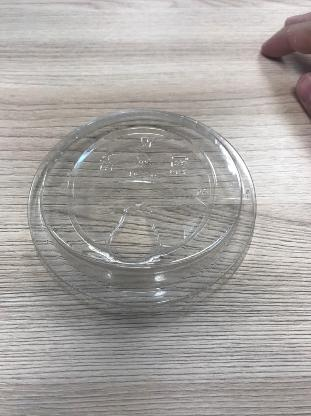Others: (21, 102, 265, 318)
